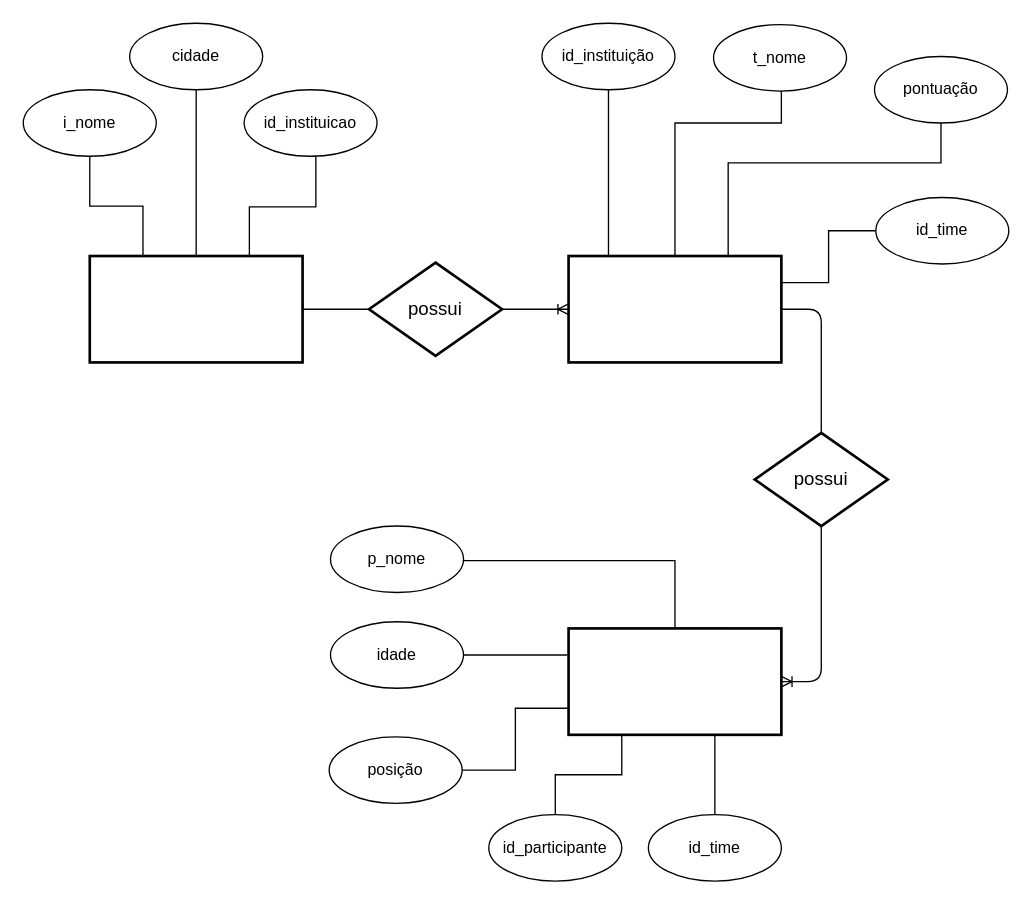
Image size: 1032x904. Some labels were removed from this diagram. The box of each missing label's shape, as (x1, y1, x2, y2) in pixels:
Instituição de Ensino: (88, 254, 303, 363)
Participante: (567, 626, 782, 735)
Time: (567, 254, 782, 363)
